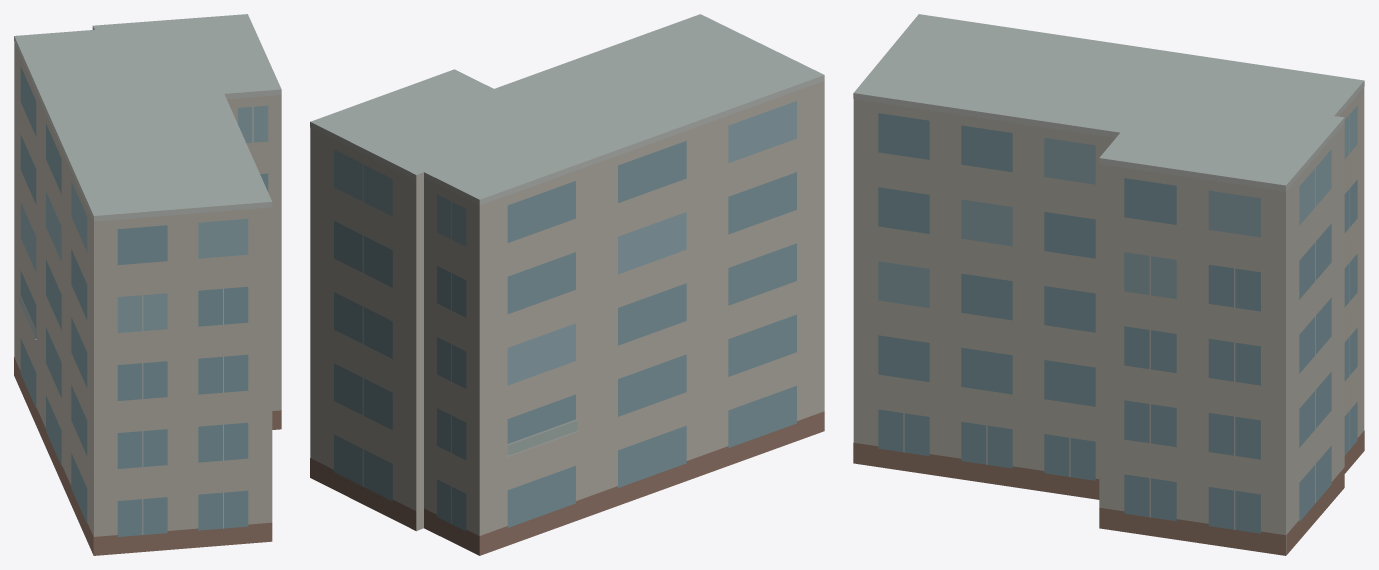
The model's file is survey-upis-32771897.glb.
3 views of the same model, side by side, from view 1: azimuth 30°, elevation 25°; view 2: azimuth 150°, elevation 25°; view 3: azimuth 270°, elevation 25° (orthographic). The views are drawn at different scales.
Visible parts, largest first — view 1: survey-upis-32771897.tmp; view 2: survey-upis-32771897.tmp; view 3: survey-upis-32771897.tmp.
Part boxes in pixels (<box>): survey-upis-32771897.tmp: <box>14,14,281,555</box>; survey-upis-32771897.tmp: <box>310,14,824,555</box>; survey-upis-32771897.tmp: <box>853,14,1364,555</box>.
Size of the model in its own units: 14.96 by 15.05 by 18.83.
